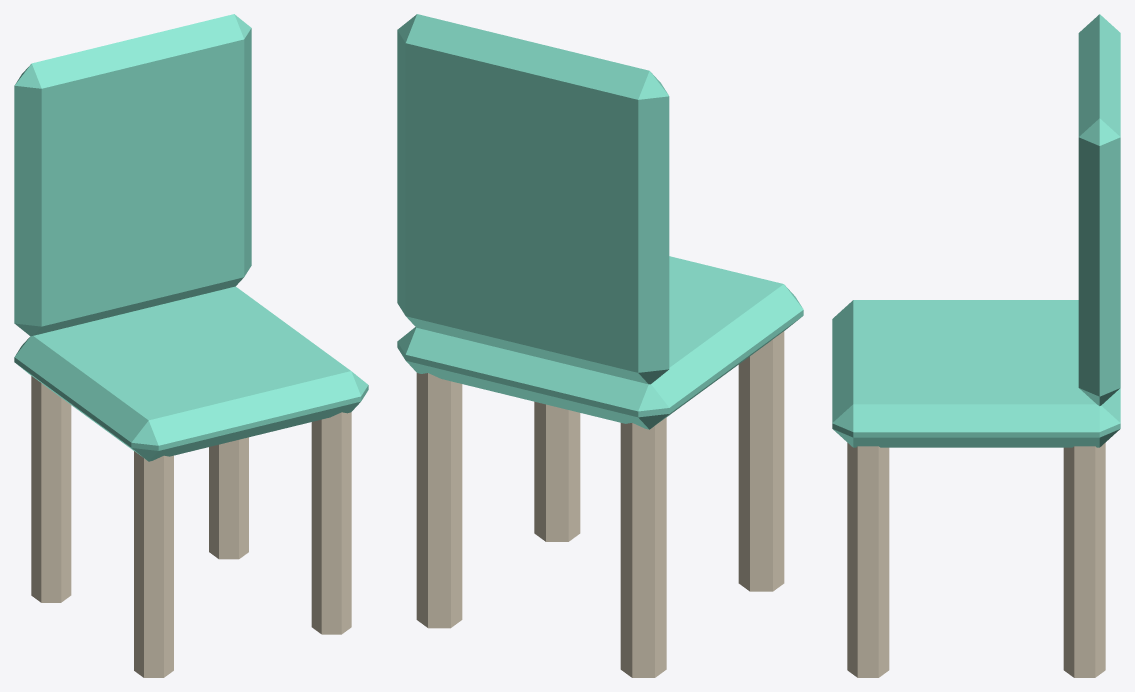
3 renders of one model, left to right at view 1: azimuth 30°, elevation 25°; view 2: azimuth 150°, elevation 25°; view 3: azimuth 270°, elevation 25°, orthographic. The views are drawn at different scales.
Parts seen in each view (by area): view 1: Backrest, Seat, Leg.002, Leg, Leg.001, Leg.003; view 2: Backrest, Seat, Leg.001, Leg.003, Leg, Leg.002; view 3: Seat, Backrest, Leg.002, Leg.003.
Boxes of the visible parts, left/top/right/bottom form: Backrest: left=14, top=14, right=251, bottom=336; Seat: left=14, top=286, right=368, bottom=461; Leg.002: left=311, top=412, right=351, bottom=634; Leg: left=134, top=451, right=173, bottom=677; Leg.001: left=31, top=376, right=71, bottom=602; Leg.003: left=209, top=437, right=248, bottom=559; Backrest: left=397, top=14, right=669, bottom=384; Seat: left=397, top=256, right=803, bottom=429; Leg.001: left=620, top=417, right=666, bottom=677; Leg.003: left=416, top=373, right=462, bottom=628; Leg: left=738, top=331, right=784, bottom=591; Leg.002: left=534, top=401, right=580, bottom=541; Seat: left=832, top=300, right=1120, bottom=447; Backrest: left=1078, top=14, right=1120, bottom=405; Leg.002: left=847, top=443, right=889, bottom=677; Leg.003: left=1063, top=443, right=1105, bottom=677.
Bounding box in the file's own units: 0.48 × 1.02 × 0.48.
1 material, 1 textured.
